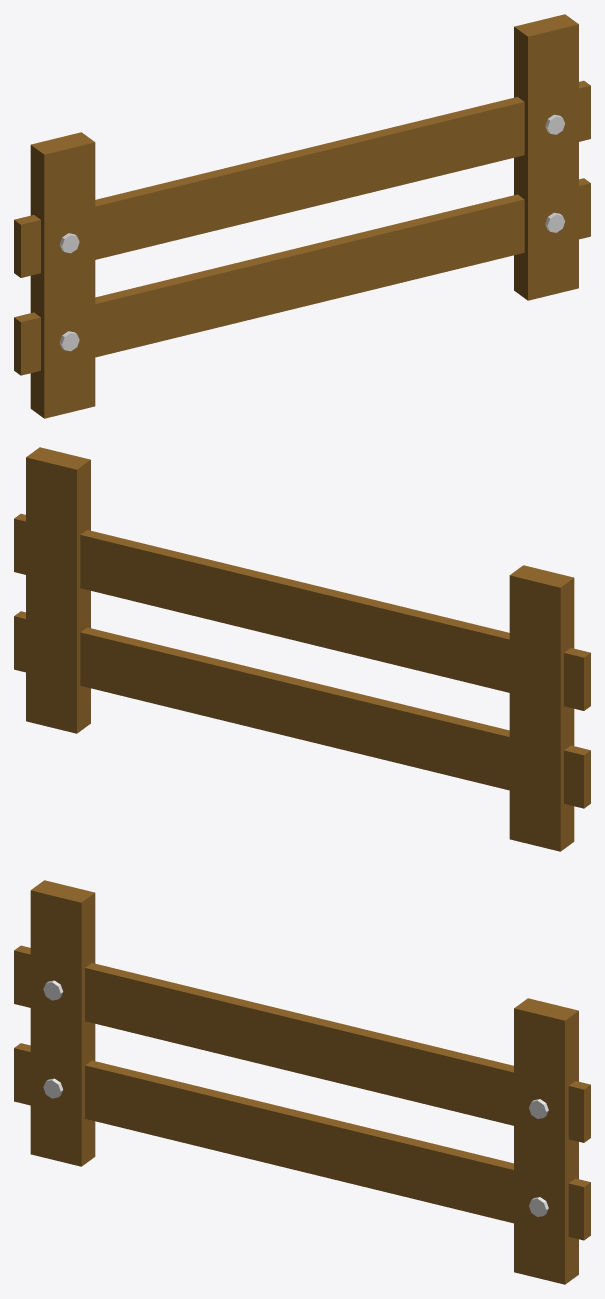
Rendered from fence.fbx.
3 views of the same model, one above another, from view 1: azimuth 30°, elevation 25°; view 2: azimuth 150°, elevation 25°; view 3: azimuth 330°, elevation 25° (orthographic).
Visible parts, largest first — view 1: Cylinder.003; view 2: Cylinder.003; view 3: Cylinder.003.
Part boxes in pixels (x1,y1,x2,y2): Cylinder.003: [14, 14, 590, 418]; Cylinder.003: [14, 447, 590, 851]; Cylinder.003: [14, 880, 590, 1284].
Size of the model in its own units: 385 by 170 by 19.16.
